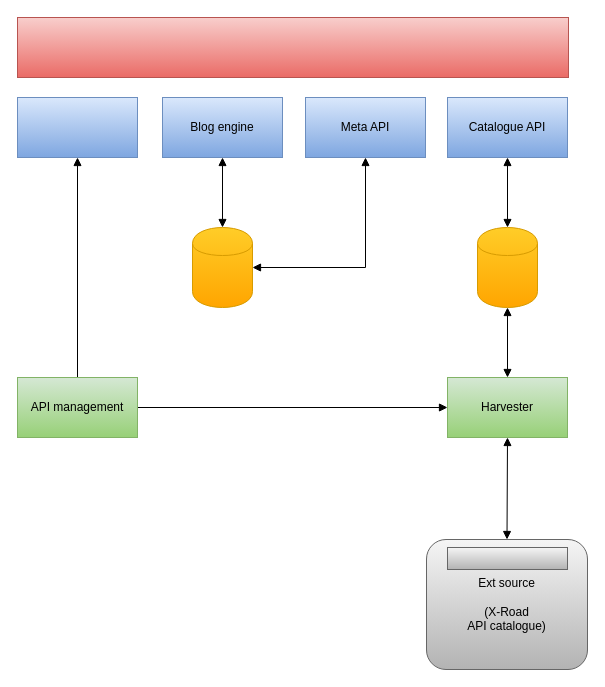
Some shapes in this 605 by 687 pixel diagram are drawn without their labels. The shapes that lost their labels are listed below. From the top down, each one's centre as x and y in pixels, then its label:
[292,47]: API:Suomi Web portal
[77,127]: User management
[507,558]: API
